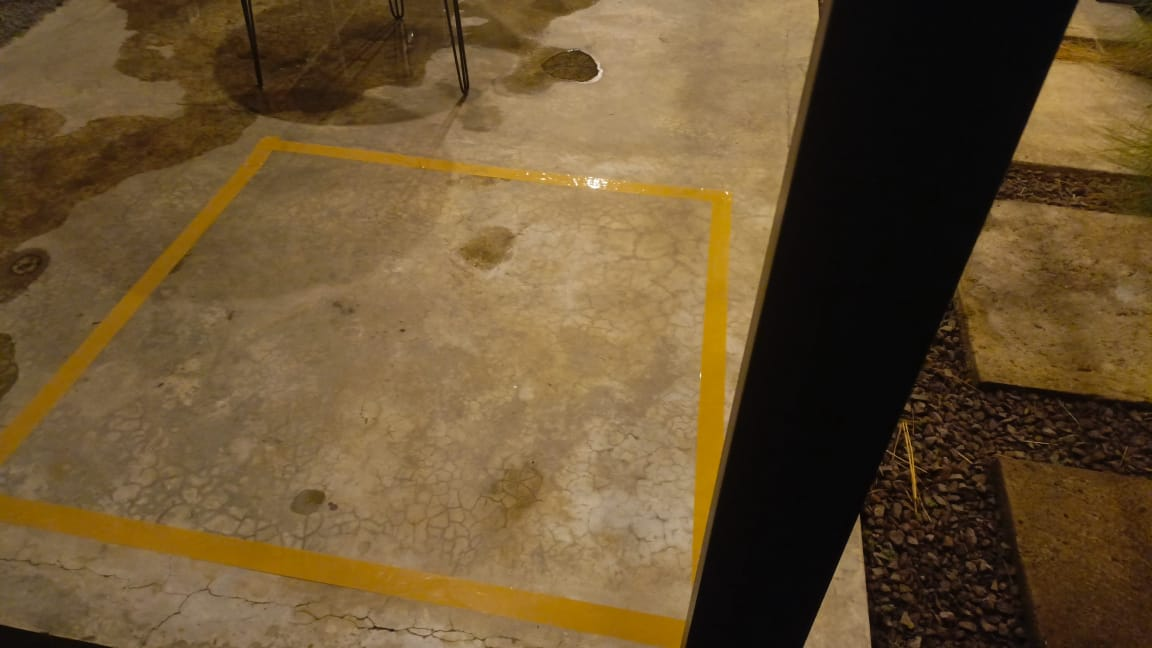floor marking: (0, 137, 731, 575), (0, 494, 685, 647)
